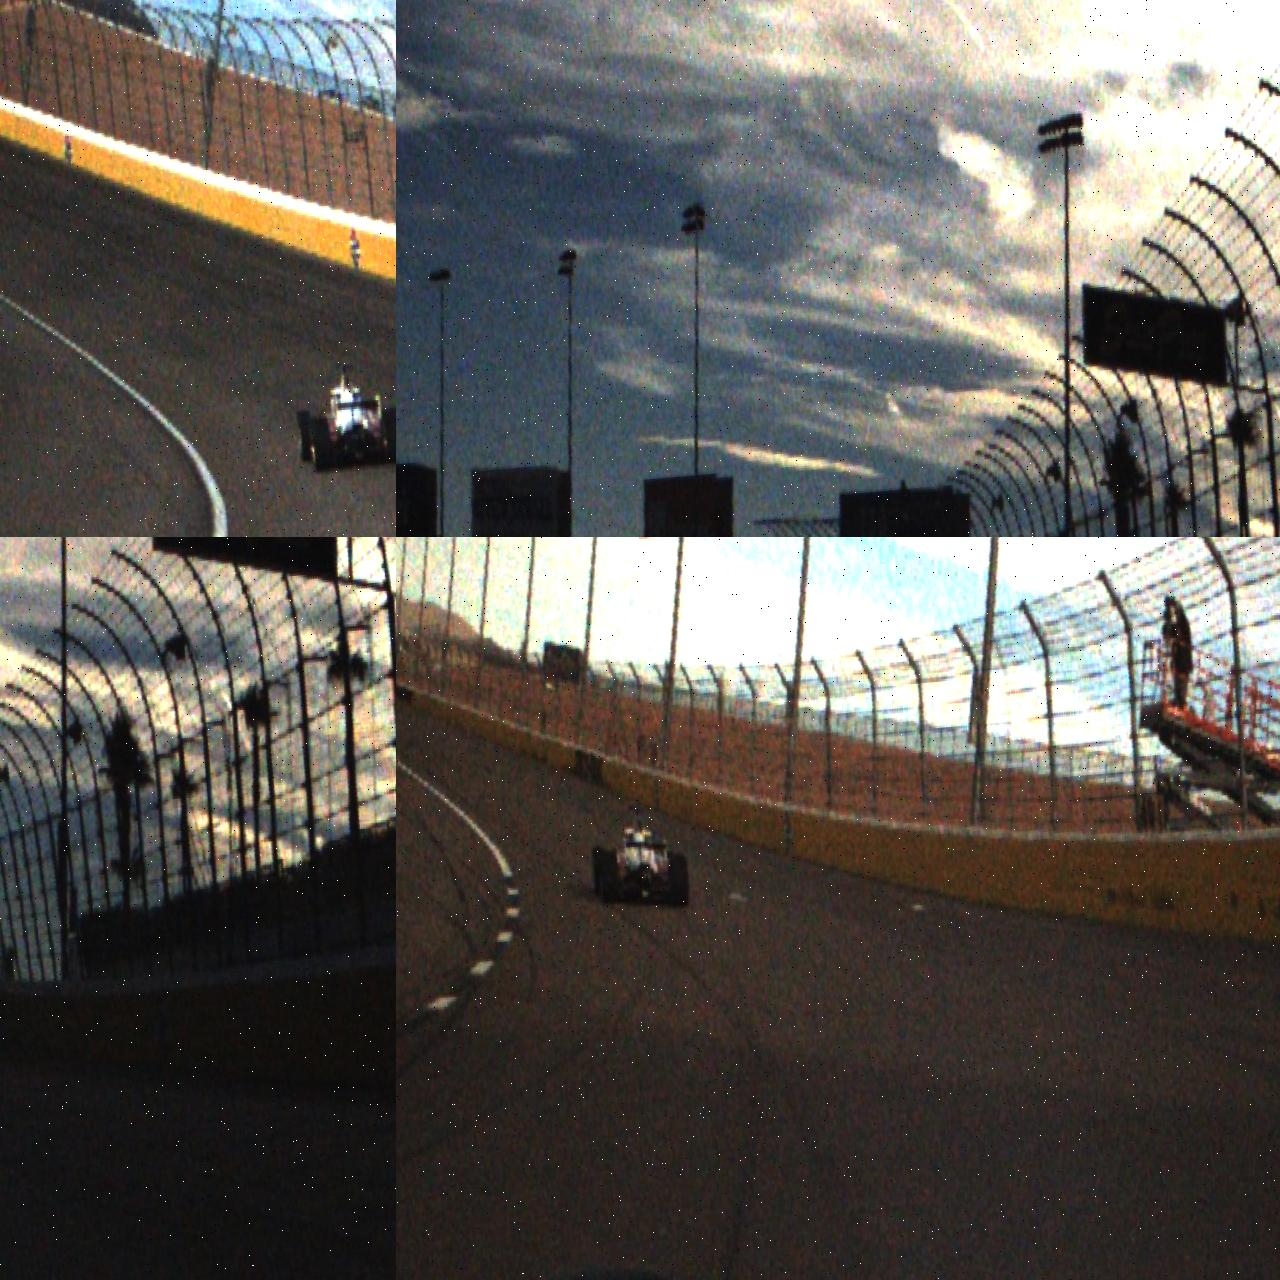AV: (586, 799, 692, 915), (292, 359, 396, 474)
Wheel: (308, 416, 333, 471), (667, 855, 692, 908), (599, 851, 621, 906), (297, 410, 315, 463), (590, 846, 608, 899), (383, 407, 396, 465)
